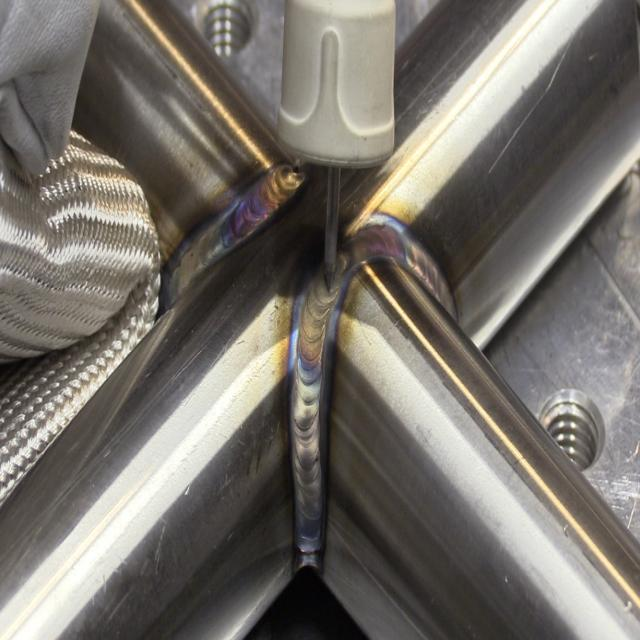Good Weld: (290, 282, 334, 560), (349, 227, 458, 296)
